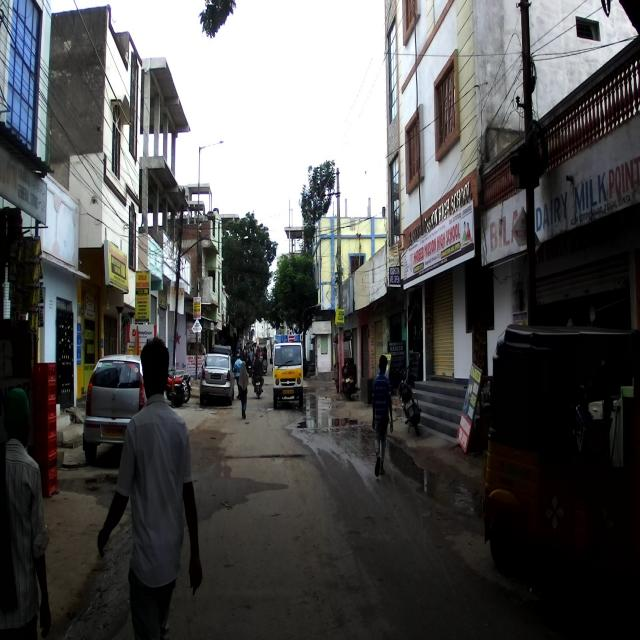Car_Mahindra: (198, 348, 236, 407)
Car_TATA: (81, 354, 148, 462)
autorickshaw: (478, 324, 640, 582)
truck: (269, 341, 308, 411)
